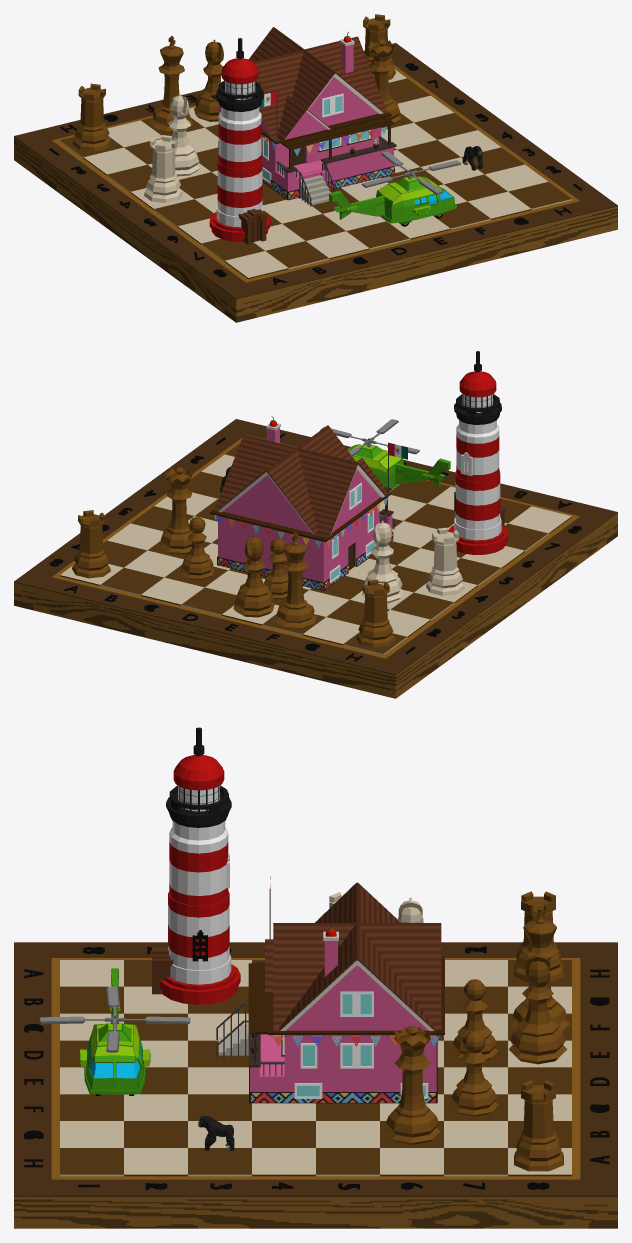
The picture shows the model from 3 angles, top to bottom: view 1: azimuth 30°, elevation 25°; view 2: azimuth 150°, elevation 25°; view 3: azimuth 270°, elevation 25°; orthographic projection. The views are drawn at different scales.
Visible parts, largest first — view 1: Cube.002, Cube.1005, OBJRANDOM_LIGHTHOUSE, VEHICLES_HELICOPTER; view 2: Cube.002, Cube.1005, OBJRANDOM_LIGHTHOUSE, VEHICLES_HELICOPTER; view 3: Cube.002, Cube.1005, OBJRANDOM_LIGHTHOUSE, VEHICLES_HELICOPTER, ANIMAL_GORILA.
Boxes of the visible parts, bbox=[...] form: Cube.002: bbox=[14, 14, 617, 322]; Cube.1005: bbox=[211, 27, 396, 206]; OBJRANDOM_LIGHTHOUSE: bbox=[209, 38, 270, 244]; VEHICLES_HELICOPTER: bbox=[329, 151, 461, 226]; Cube.002: bbox=[14, 419, 617, 698]; Cube.1005: bbox=[210, 416, 407, 590]; OBJRANDOM_LIGHTHOUSE: bbox=[447, 351, 508, 554]; VEHICLES_HELICOPTER: bbox=[320, 419, 450, 488]; Cube.002: bbox=[14, 891, 617, 1228]; Cube.1005: bbox=[216, 876, 444, 1103]; OBJRANDOM_LIGHTHOUSE: bbox=[152, 727, 240, 1004]; VEHICLES_HELICOPTER: bbox=[39, 968, 190, 1095]; ANIMAL_GORILA: bbox=[198, 1116, 234, 1150].
Bounding box in the file's own units: 3981 × 2235 × 4012.
Materials: 73 (4 with a texture image).
